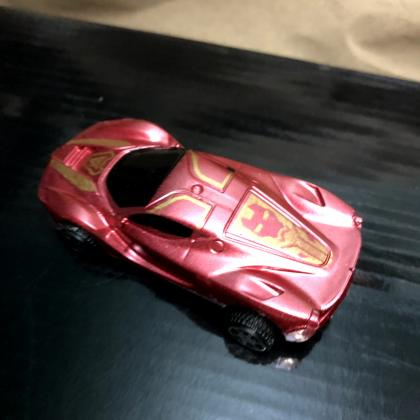Car: (36, 118, 363, 366)
